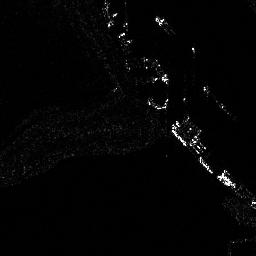ship: (204, 84, 231, 118), (155, 16, 177, 39)
